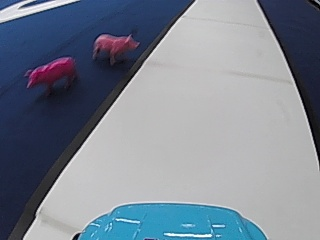pig: (23, 52, 78, 98), (91, 28, 139, 66)
